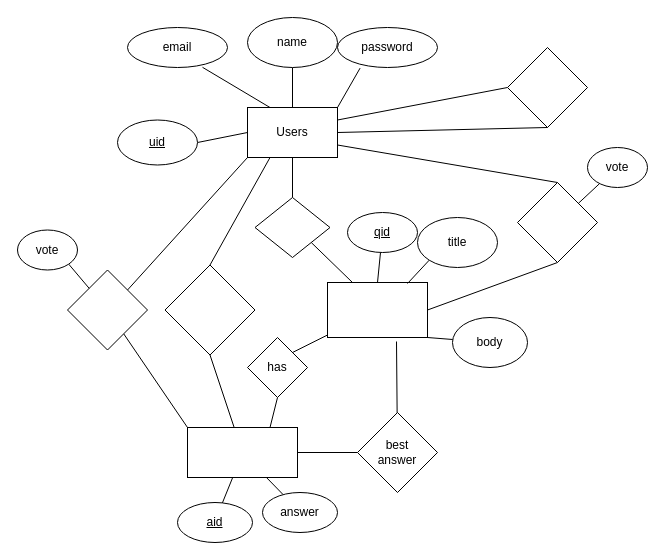
This 665x560 diagram has some shape labels left out. The shapes that lost their labels are listed below. From the top down, each one's centre as x and y in pixels, then its label:
At pixel 547 87: "follow".
At pixel 292 227: "Ask".
At pixel 557 222: "vote question".
At pixel 107 309: "vote answer".
At pixel 209 309: "answer question".
At pixel 377 310: "Questions".
At pixel 242 452: "Answers".
